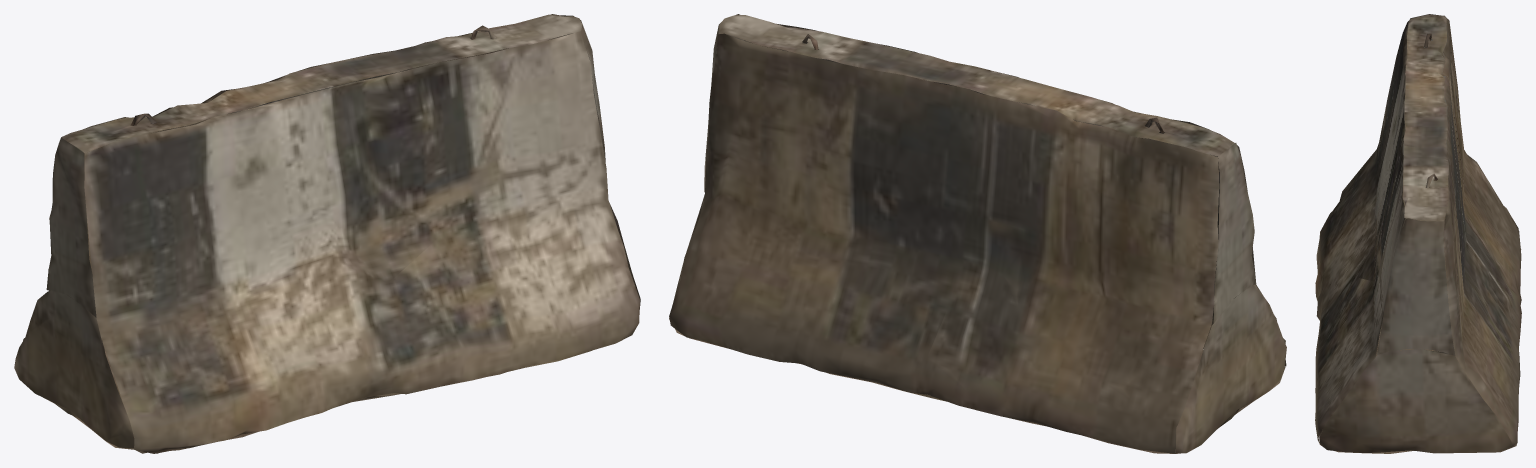
Rendered from road_barrier.glb.
3 views of the same model, side by side, from view 1: azimuth 30°, elevation 25°; view 2: azimuth 150°, elevation 25°; view 3: azimuth 270°, elevation 25° (orthographic). The views are drawn at different scales.
Visible parts, largest first — view 1: concrete_road_barrier; view 2: concrete_road_barrier; view 3: concrete_road_barrier.
Boxes of the visible parts, box(x1,y1,x2,y2) form: concrete_road_barrier: box(14, 14, 640, 453); concrete_road_barrier: box(669, 14, 1286, 453); concrete_road_barrier: box(1315, 14, 1521, 453).
Size of the model in its own units: 1.54 by 0.8326 by 0.6344.
Materials: 1 (1 with a texture image).
